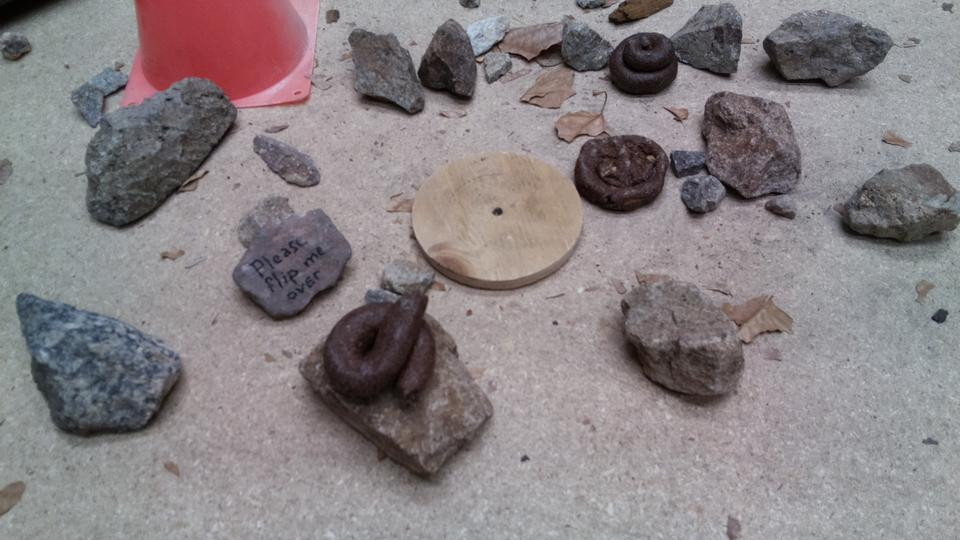poop: (320, 293, 439, 406), (571, 132, 671, 215), (606, 31, 679, 97)
